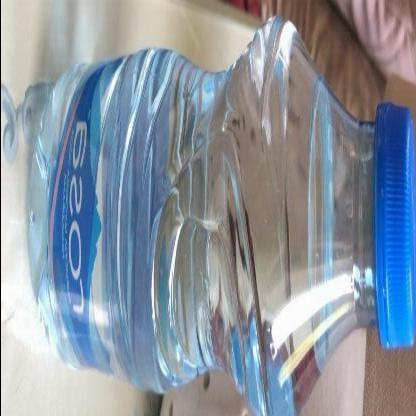bottle: (0, 1, 414, 416)
